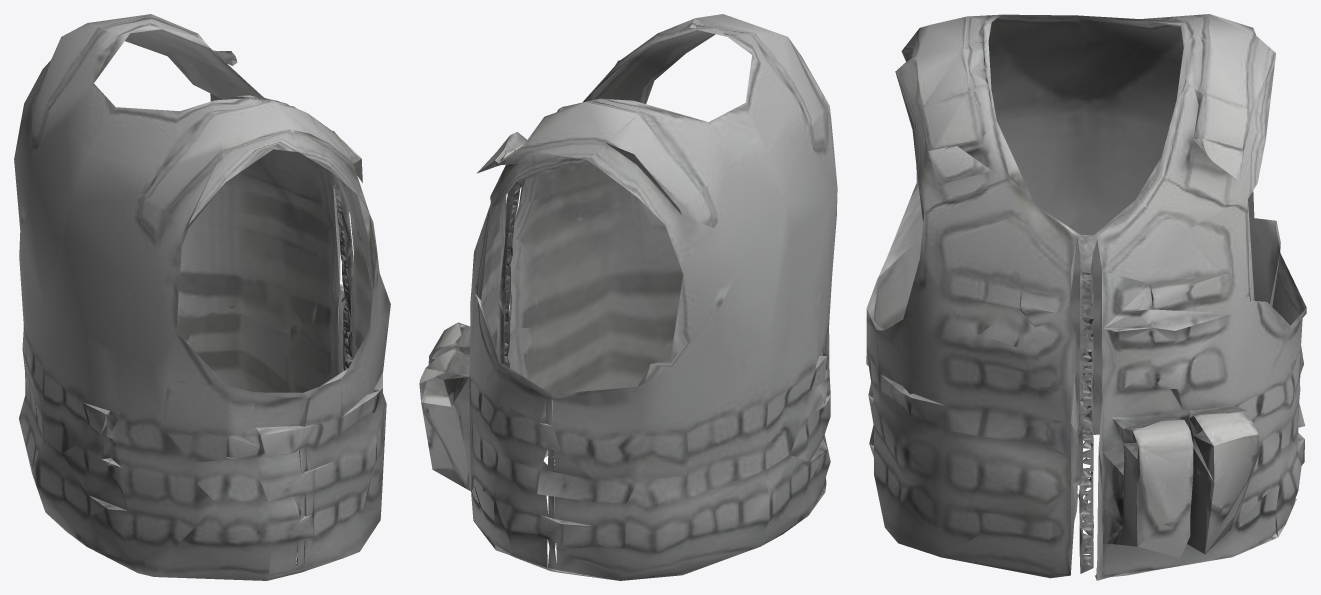
File: farda_colete.glb
The picture shows the model from 3 angles, left to right: view 1: azimuth 30°, elevation 25°; view 2: azimuth 150°, elevation 25°; view 3: azimuth 270°, elevation 25°; orthographic projection. The views are drawn at different scales.
Parts seen in each view (by area): view 1: tripo_node_96f64533-6d14-40e3-a455-e2e254004f52; view 2: tripo_node_96f64533-6d14-40e3-a455-e2e254004f52; view 3: tripo_node_96f64533-6d14-40e3-a455-e2e254004f52.
Part boxes in pixels (box(x1,y1,x2,y2)): tripo_node_96f64533-6d14-40e3-a455-e2e254004f52: box(14, 14, 390, 580); tripo_node_96f64533-6d14-40e3-a455-e2e254004f52: box(419, 14, 837, 580); tripo_node_96f64533-6d14-40e3-a455-e2e254004f52: box(866, 14, 1306, 580).
Size of the model in its own units: 0.7634 by 0.9923 by 0.8385.
1 material, 1 textured.
